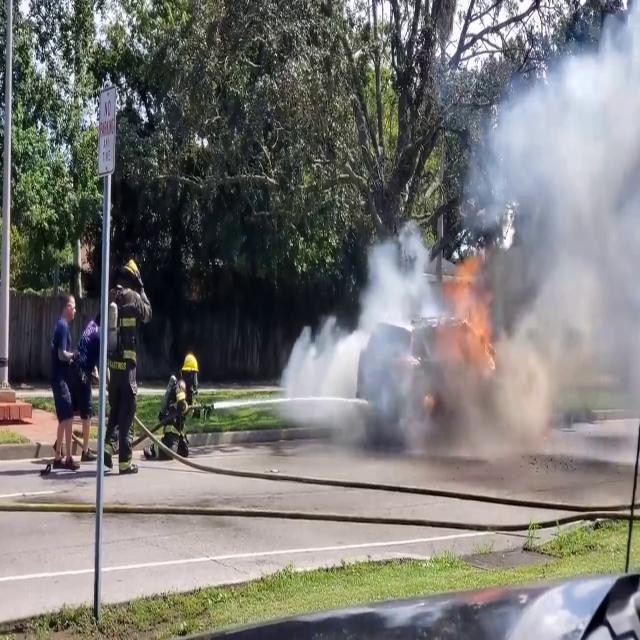Fire: (436, 251, 498, 377)
Smoke: (285, 16, 640, 479)
